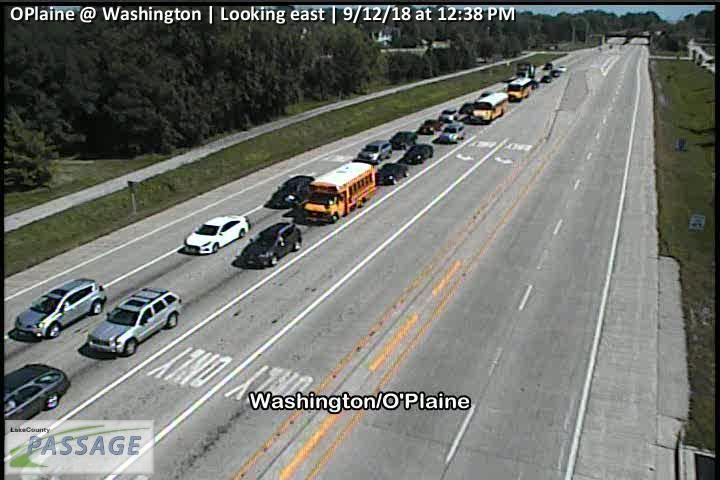Bus: (296, 161, 377, 222), (471, 90, 509, 124), (507, 77, 534, 101)
SUV: (87, 287, 184, 356), (14, 279, 107, 338), (1, 363, 71, 436), (240, 223, 302, 267), (358, 140, 392, 163), (439, 121, 466, 146)
Sedan: (183, 214, 251, 254), (272, 175, 314, 209), (374, 163, 409, 185), (405, 144, 434, 165), (390, 132, 418, 149), (416, 120, 443, 135), (439, 108, 459, 123), (459, 103, 474, 114), (549, 69, 559, 77), (541, 76, 552, 83), (558, 64, 567, 71), (544, 62, 553, 69)
Truck: (517, 63, 536, 77)
